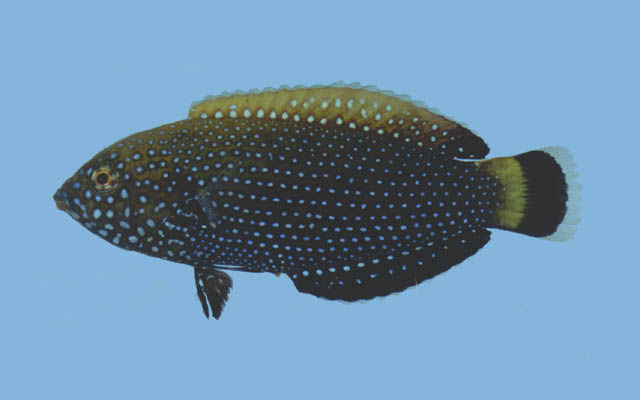fish: (53, 82, 581, 321)
